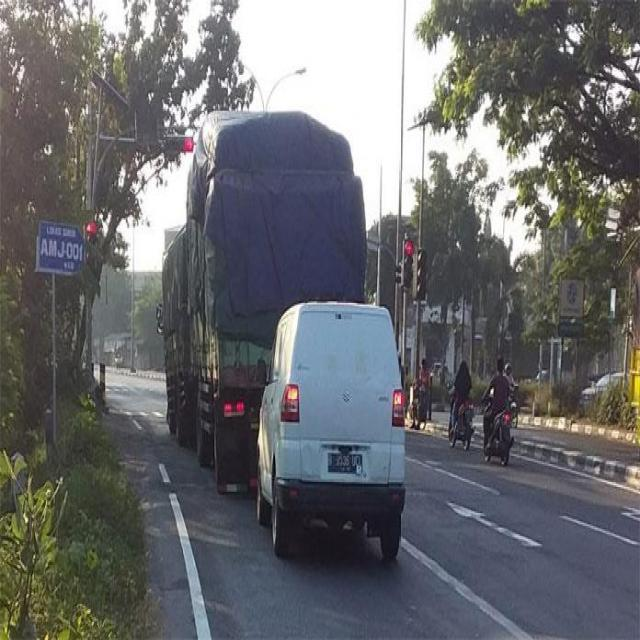red_light: (400, 240, 413, 294), (166, 135, 192, 153), (85, 220, 98, 246)
